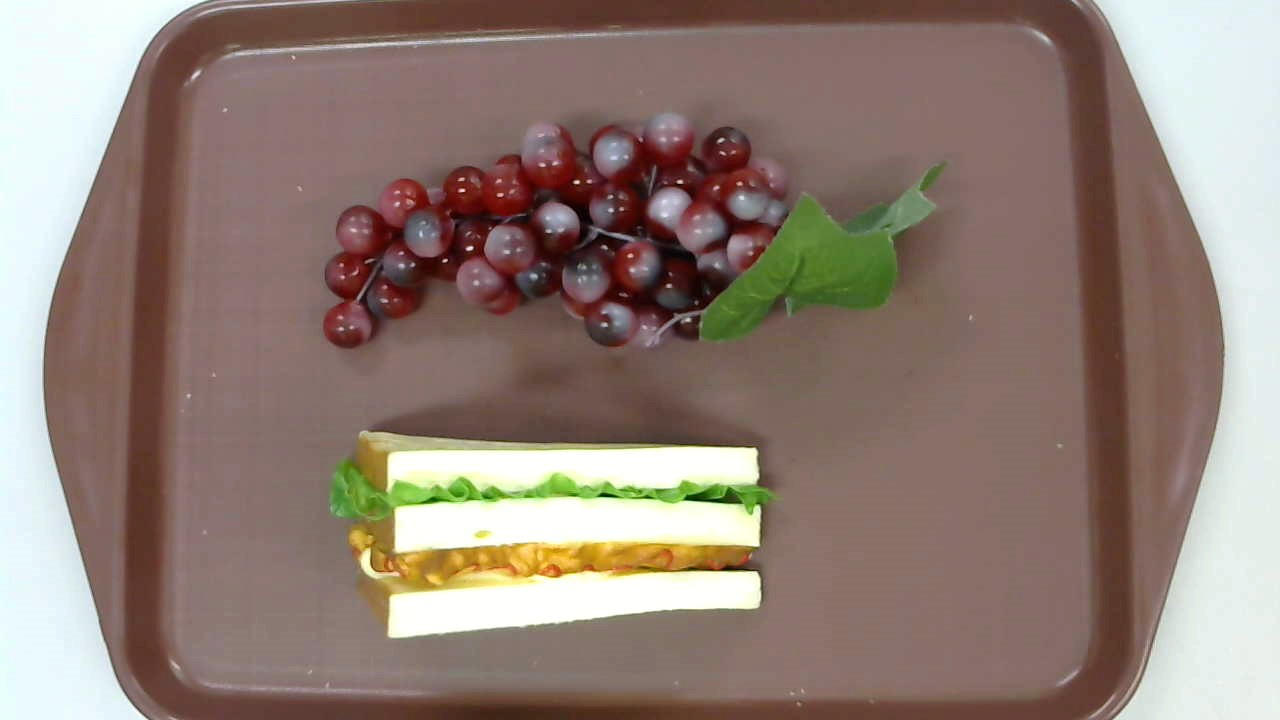grape: (322, 113, 948, 352)
sandwich: (325, 429, 781, 638)
